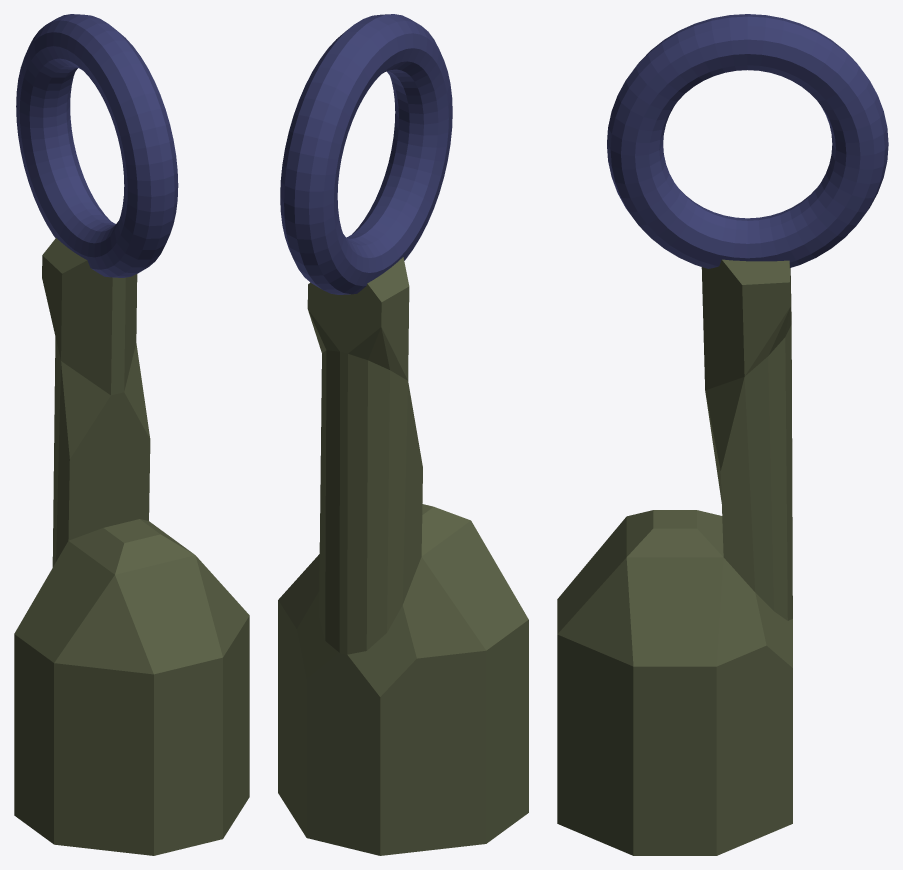
The model's file is table3.fbx.
3 renders of one model, left to right at view 1: azimuth 30°, elevation 25°; view 2: azimuth 150°, elevation 25°; view 3: azimuth 270°, elevation 25°, orthographic. The views are drawn at different scales.
Parts seen in each view (by area): view 1: table1; view 2: table1; view 3: table1.
Boxes of the visible parts, <box> form: table1: <box>14,14,249,855</box>; table1: <box>278,14,528,855</box>; table1: <box>557,14,888,855</box>.
Bounding box in the file's own units: 209 × 773 × 294.
